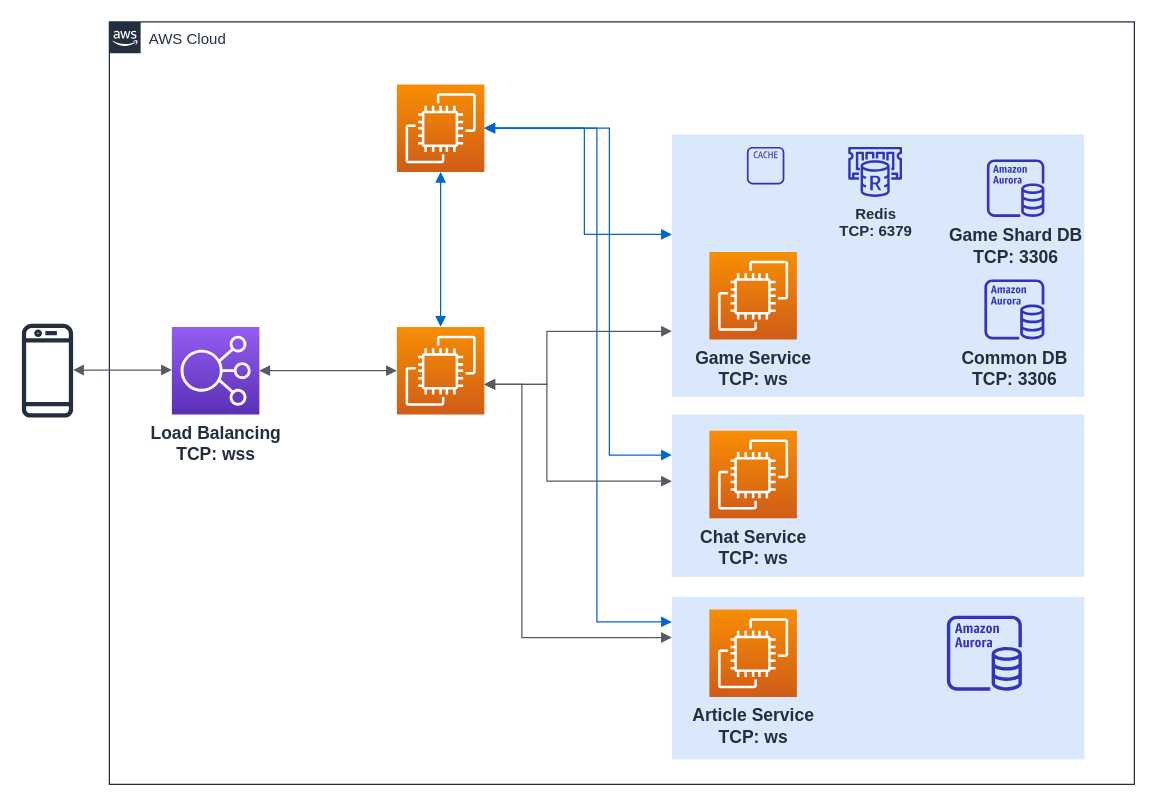
The diagram is 1156 pixels wide and 806 high, and some of its shapes have lost their labels. The centre of each missing label's shape, as x and y in pixels:
Article Shard DB TCP: 3306: [983,652]
Memcached TCP: 11211: [765,165]
Presence Service TCP: ws: [440,127]
Session Service TCP: ws: [440,370]
